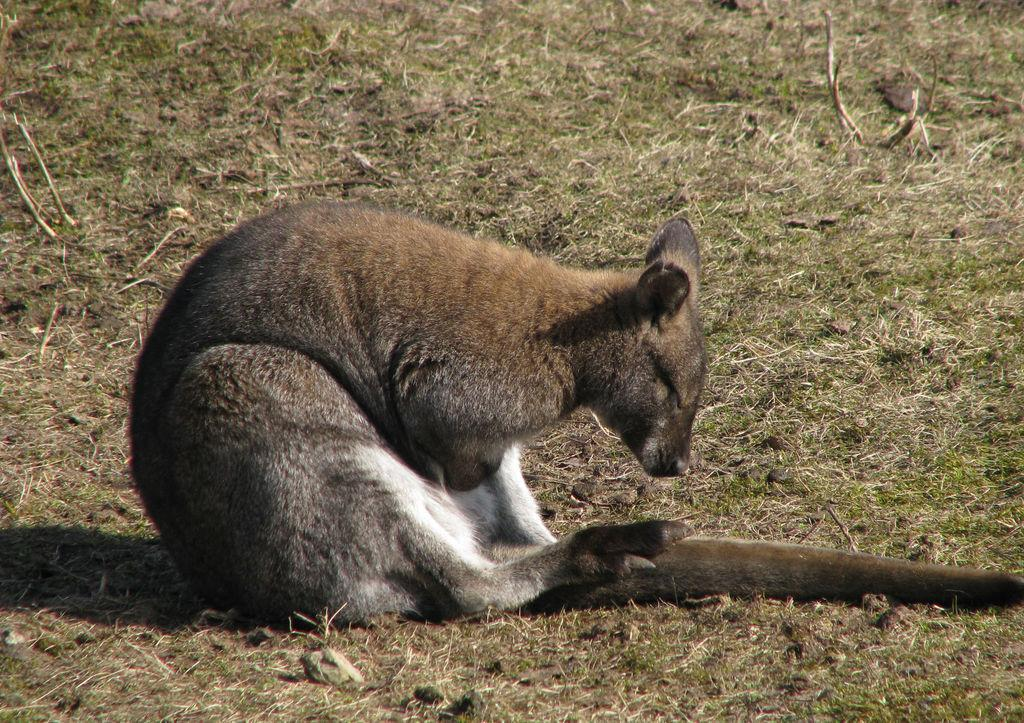kangaroo: (125, 198, 1021, 630)
